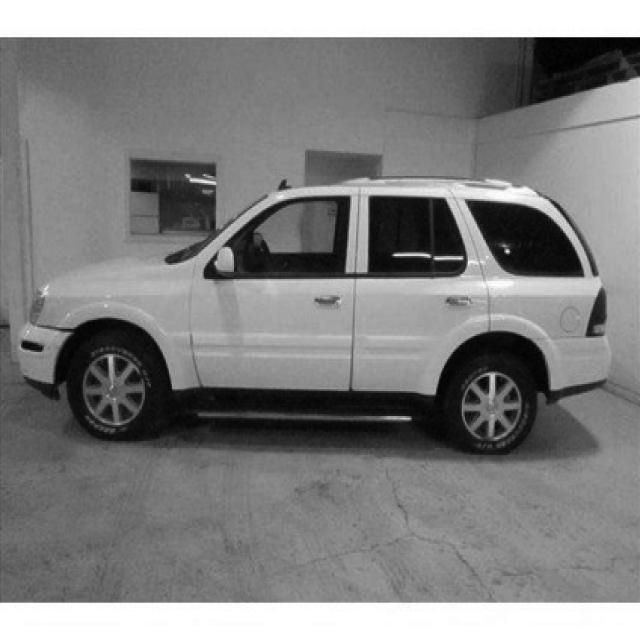car: (17, 174, 611, 455)
